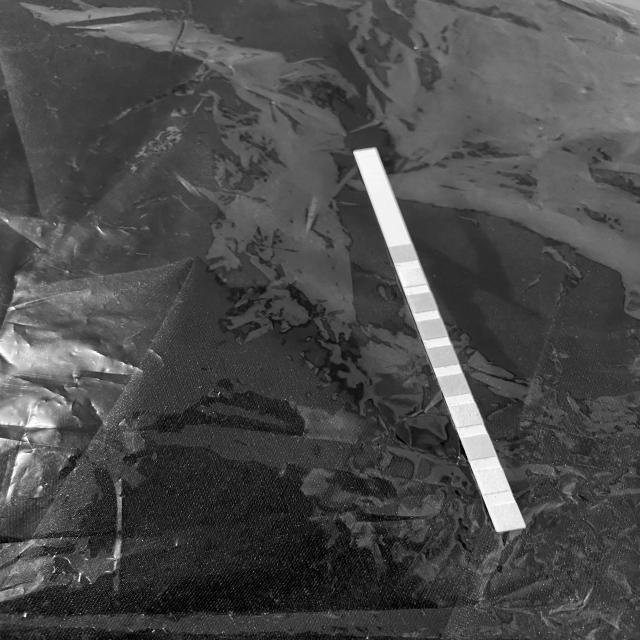Bilirubin: (403, 270, 422, 284)
Blood: (432, 348, 453, 365)
Glucose: (394, 247, 413, 261)
Ketone: (412, 296, 432, 309)
Leukocytes: (495, 507, 518, 528)
Nitrite: (482, 470, 503, 490)
Protein: (455, 406, 477, 425)
SpGravity: (422, 322, 442, 336)
Urobilinogen: (468, 438, 489, 458)
background: (0, 0, 640, 640)
pH: (444, 376, 465, 394)
strip: (354, 147, 526, 533)
